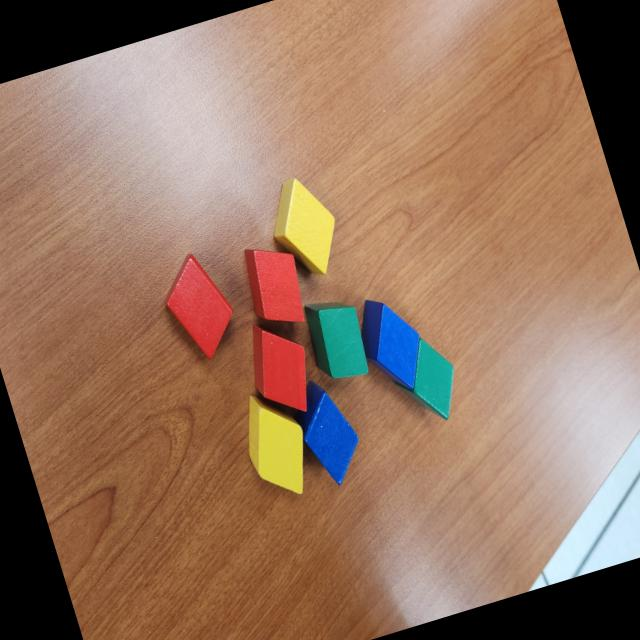blue: (288, 371, 370, 492), (351, 286, 434, 399)
green: (382, 328, 468, 430), (297, 290, 375, 389)
red: (151, 246, 244, 366), (236, 310, 322, 424), (238, 236, 314, 334)
yellow: (232, 382, 320, 504), (260, 170, 349, 284)
